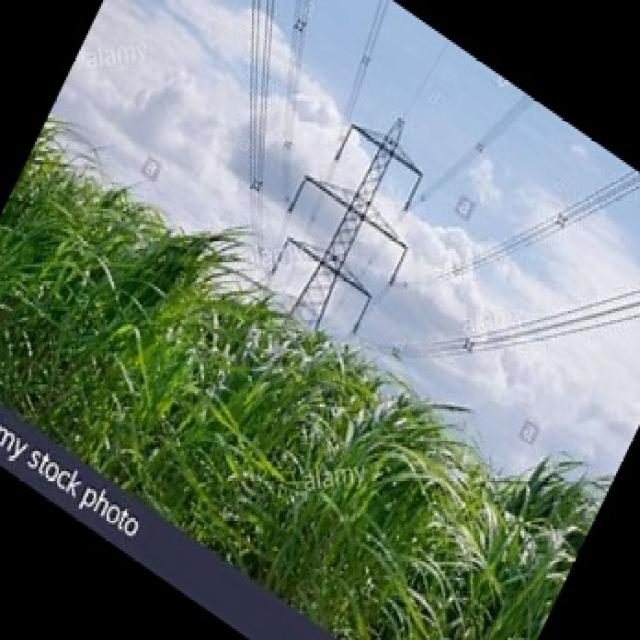utility poles: (271, 111, 414, 601)
